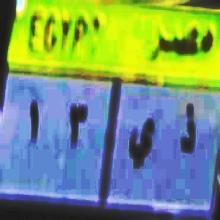1: (23, 92, 46, 150)
3: (65, 91, 95, 156)
yaa: (127, 110, 158, 172)
zaal: (179, 103, 200, 159)
